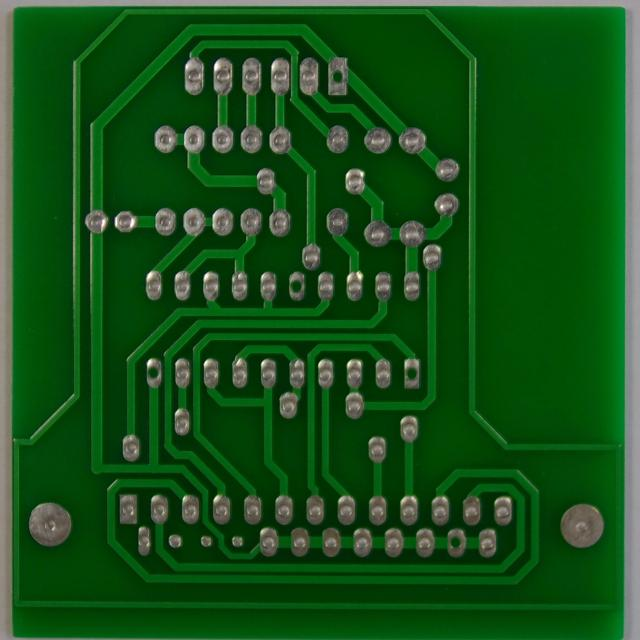missing_hole: (324, 63, 351, 89), (402, 358, 422, 388), (143, 360, 164, 386), (287, 273, 307, 300), (447, 530, 467, 557)
